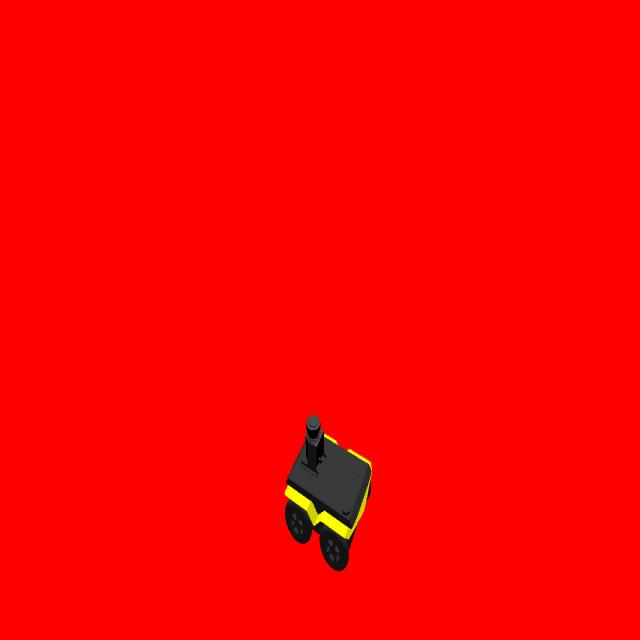jackal: (281, 416, 373, 574)
